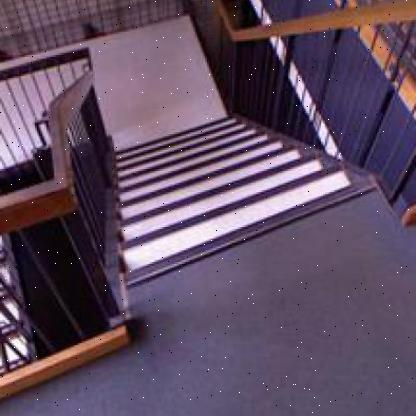stair_down: (108, 172, 371, 288)
